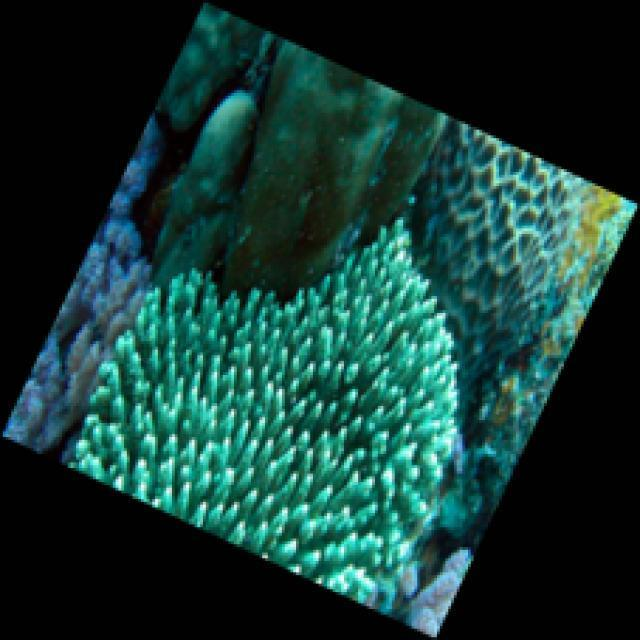Healthy: (69, 218, 461, 614), (144, 1, 448, 306), (413, 119, 590, 396)
